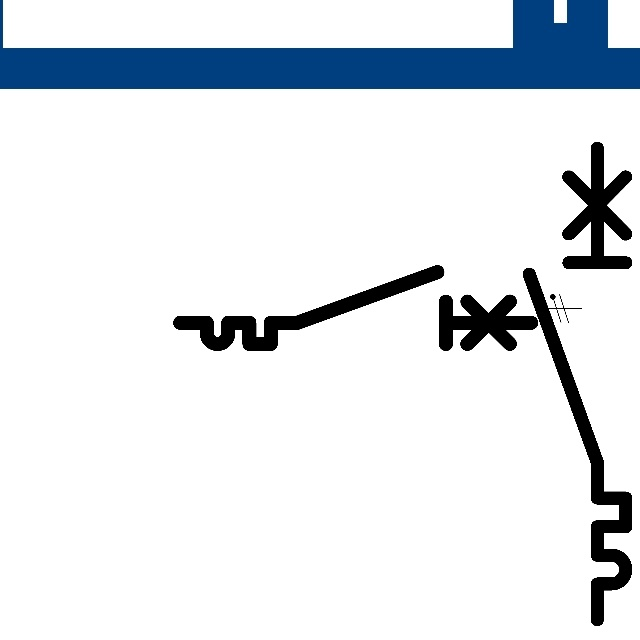interruptor_termomagnetico: (517, 136, 638, 632), (171, 263, 540, 353)
